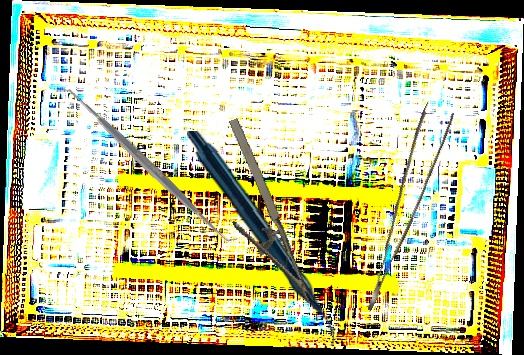Handpiece: (183, 130, 338, 347)
Needle Holder: (198, 115, 314, 319)
Spatula Surgical: (52, 73, 241, 256)
Tissue Forceps: (334, 100, 465, 312)
